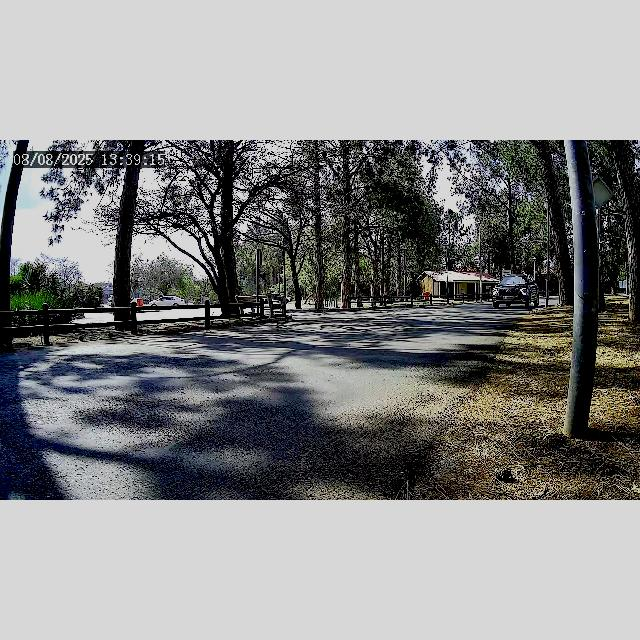car: (490, 275, 540, 309)
